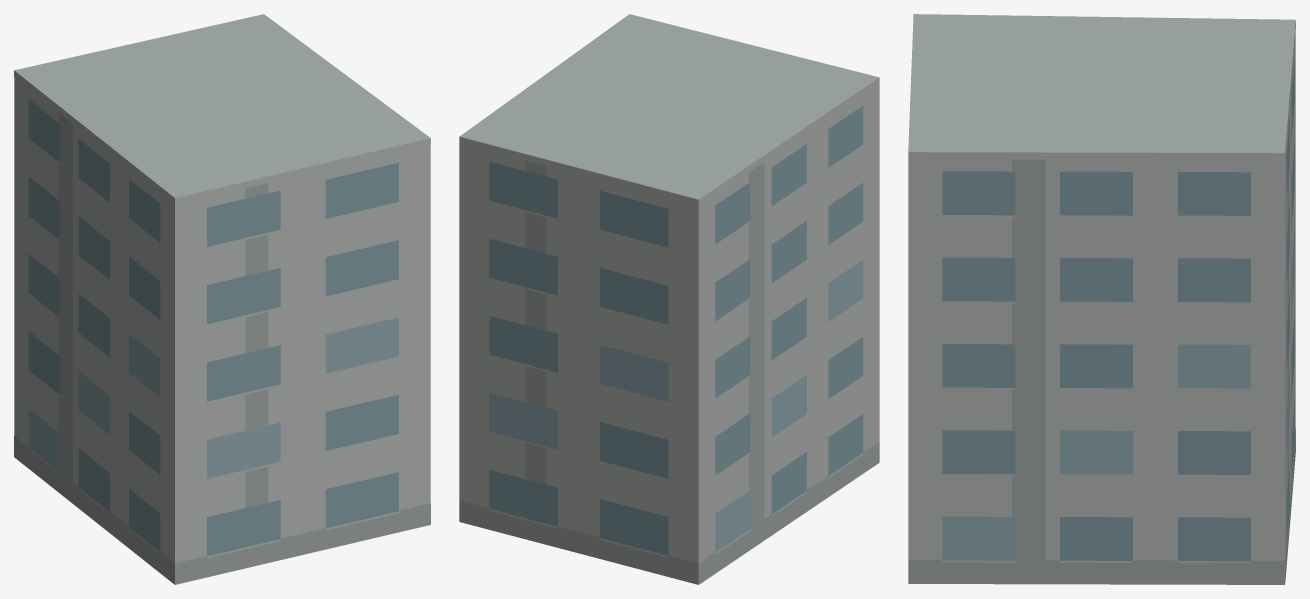
The model's file is survey-upis-32496532.glb.
3 renders of one model, left to right at view 1: azimuth 30°, elevation 25°; view 2: azimuth 150°, elevation 25°; view 3: azimuth 270°, elevation 25°, orthographic. The views are drawn at different scales.
Visible parts, largest first — view 1: survey-upis-32496532.tmp; view 2: survey-upis-32496532.tmp; view 3: survey-upis-32496532.tmp.
Boxes of the visible parts, x1,y1,x2,y2 form: survey-upis-32496532.tmp: (14, 14, 430, 584); survey-upis-32496532.tmp: (459, 14, 879, 584); survey-upis-32496532.tmp: (908, 14, 1295, 584).
Size of the model in its own units: 9.76 by 14.1 by 11.48.
